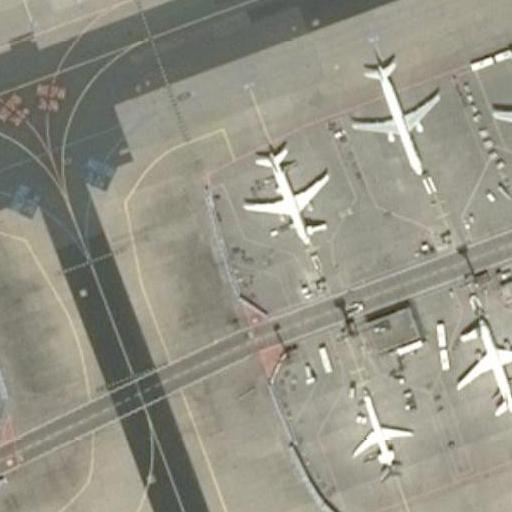Aircraft: (342, 60, 450, 178), (241, 147, 334, 242), (455, 316, 512, 418), (352, 392, 418, 477), (494, 32, 512, 181)
